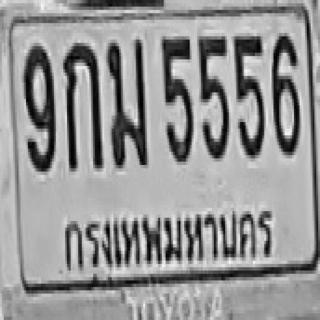A01: (61, 40, 100, 168)
A33: (106, 36, 147, 165)
N05: (160, 33, 192, 162), (232, 33, 264, 158), (197, 33, 229, 158)
N06: (272, 31, 300, 157)
N09: (22, 43, 54, 168)
P04: (60, 199, 280, 282)
